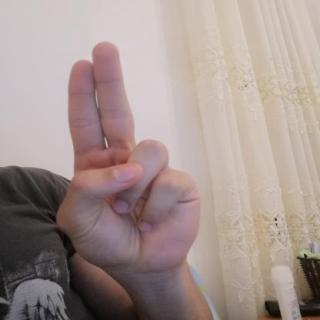TA: (38, 30, 211, 284)
